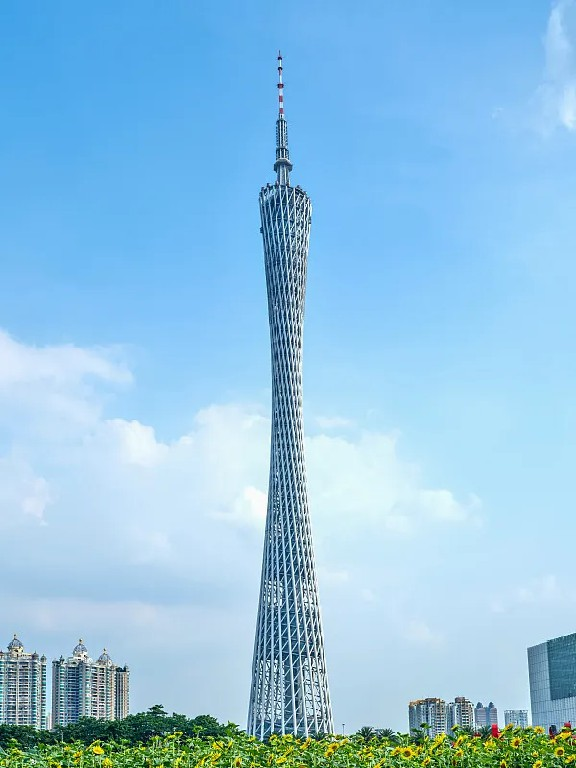Canton: (247, 45, 334, 741)
